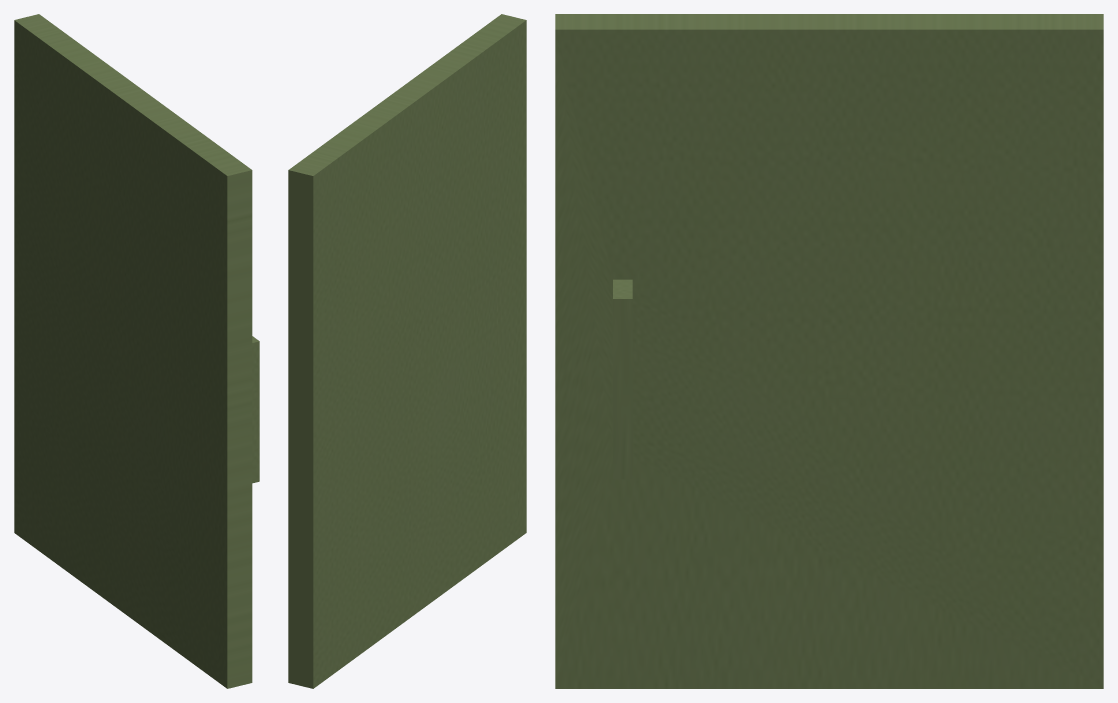
File: cabinetdoor.glb
3 views of the same model, side by side, from view 1: azimuth 30°, elevation 25°; view 2: azimuth 150°, elevation 25°; view 3: azimuth 270°, elevation 25° (orthographic). The views are drawn at different scales.
Visible parts, largest first — view 1: Cube.001; view 2: Cube.001; view 3: Cube.001.
Part boxes in pixels (x1,y1,x2,y2): Cube.001: (14,14,259,688); Cube.001: (288,14,526,688); Cube.001: (555,14,1103,688).
Bounding box in the file's own units: 0.2568 × 2.3 × 1.73.
1 material, 1 textured.
